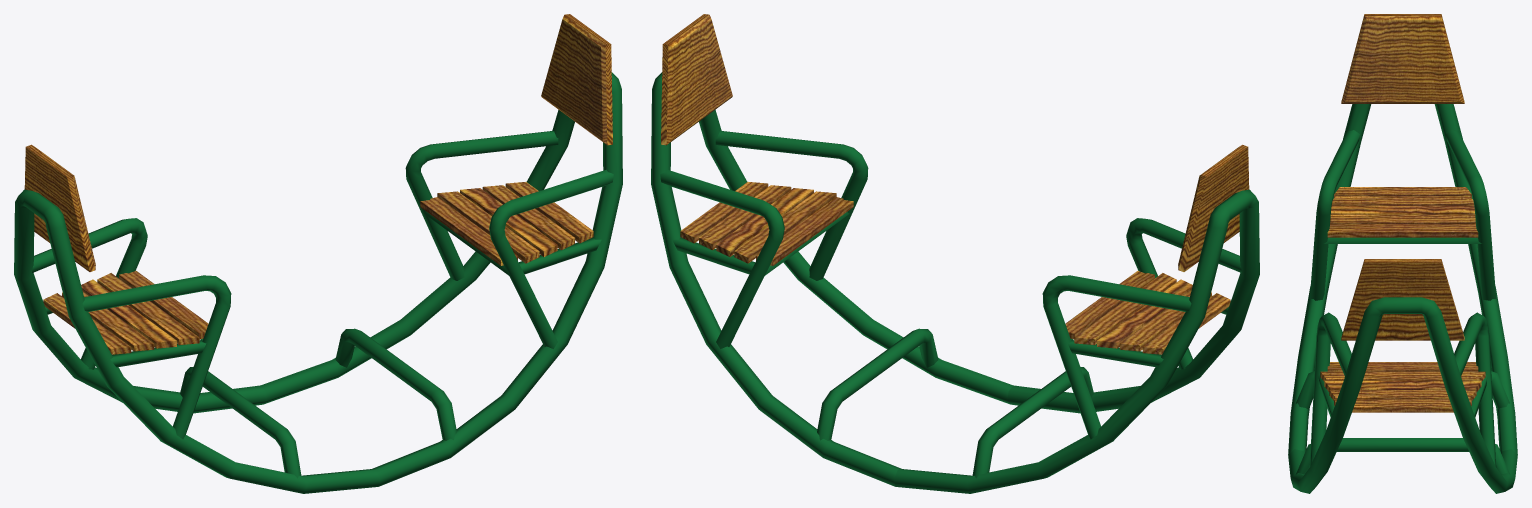
Rendered from seesaw.glb.
The picture shows the model from 3 angles, left to right: view 1: azimuth 30°, elevation 25°; view 2: azimuth 150°, elevation 25°; view 3: azimuth 270°, elevation 25°; orthographic projection. The views are drawn at different scales.
Parts seen in each view (by area): view 1: seesaw-type1; view 2: seesaw-type1; view 3: seesaw-type1.
Boxes of the visible parts, x1,y1,x2,y2 form: seesaw-type1: [14, 14, 622, 493]; seesaw-type1: [651, 14, 1259, 493]; seesaw-type1: [1288, 14, 1517, 493].
Size of the model in its own units: 3.2 by 1.88 by 1.19.
1 material, 1 textured.
